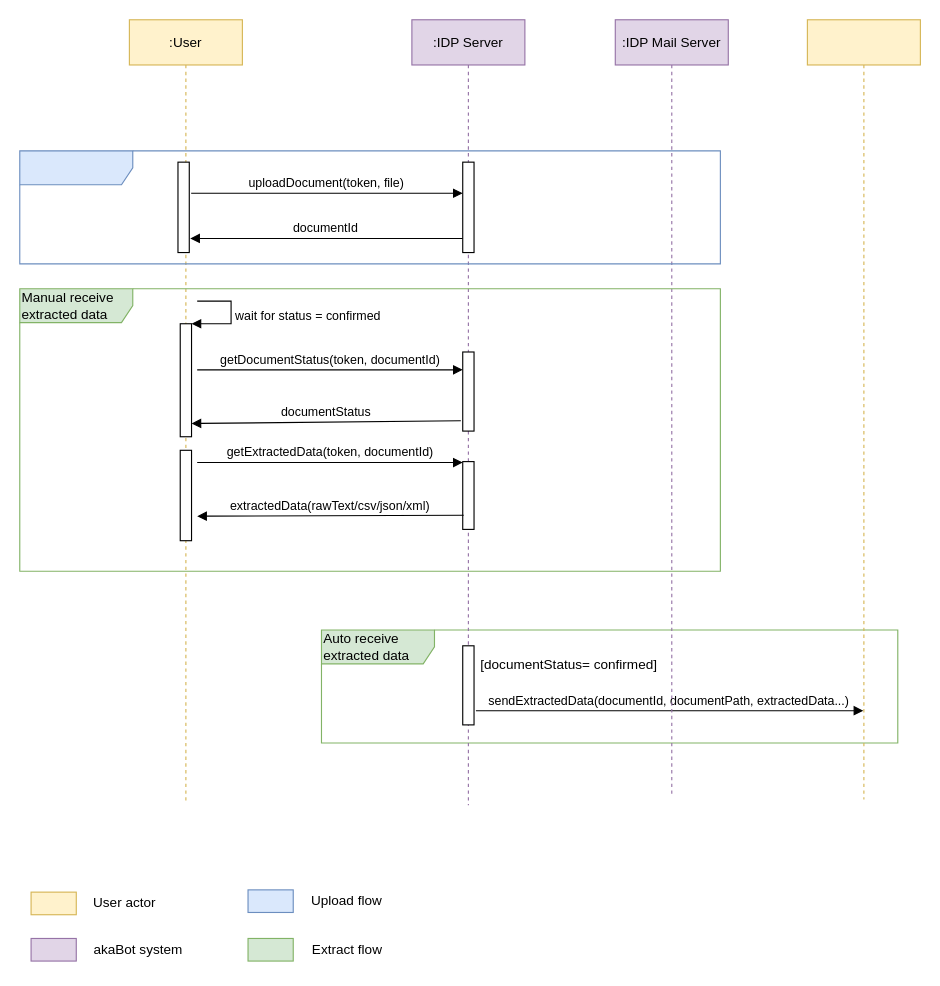
This 940x986 diagram has some shape labels left out. The shapes that lost their labels are listed below. From the top down, each one's box as (x1, y1, x2, y2) in pixels, then its label:
(19, 150, 720, 264): Manual upload
(806, 19, 920, 799): :Your Server
